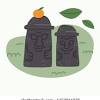Stone Statue: (17, 9, 54, 69), (52, 21, 82, 69)
